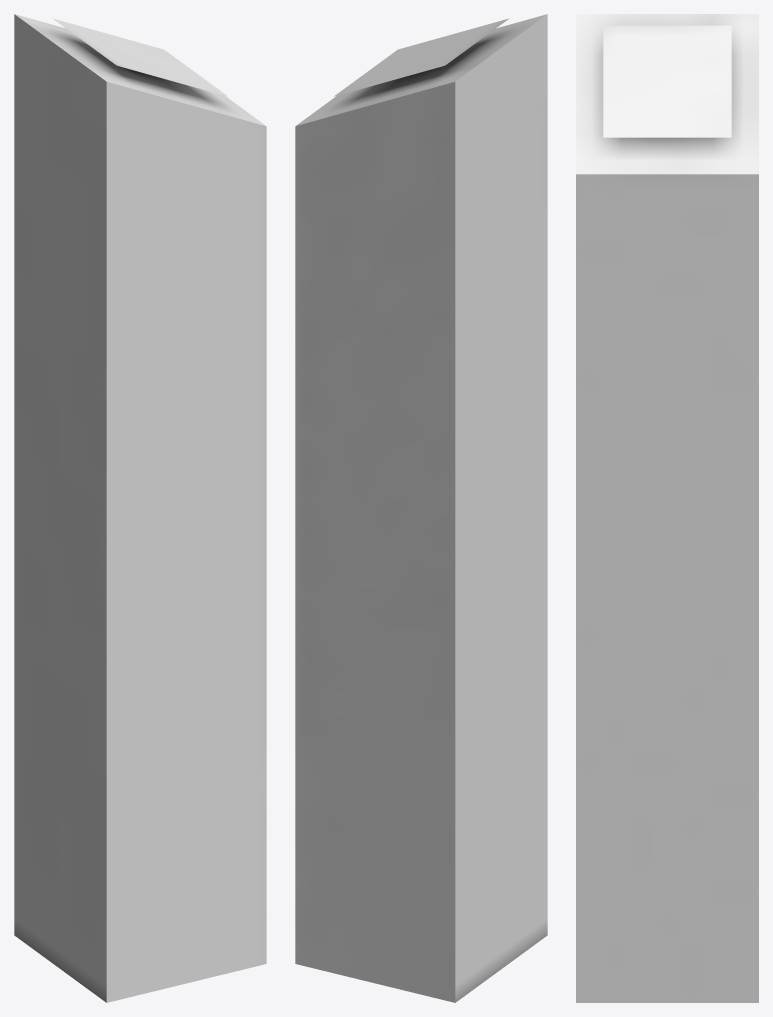
The model's file is mdlButton.fbx.
3 renders of one model, left to right at view 1: azimuth 30°, elevation 25°; view 2: azimuth 150°, elevation 25°; view 3: azimuth 270°, elevation 25°, orthographic.
Parts seen in each view (by area): view 1: Button; view 2: Button; view 3: Button.
Part boxes in pixels (box(x1,y1,x2,y2)): Button: box(14, 14, 266, 1002); Button: box(295, 14, 547, 1002); Button: box(576, 14, 758, 1002).
Bounding box in the file's own units: 22 × 121 × 22.
